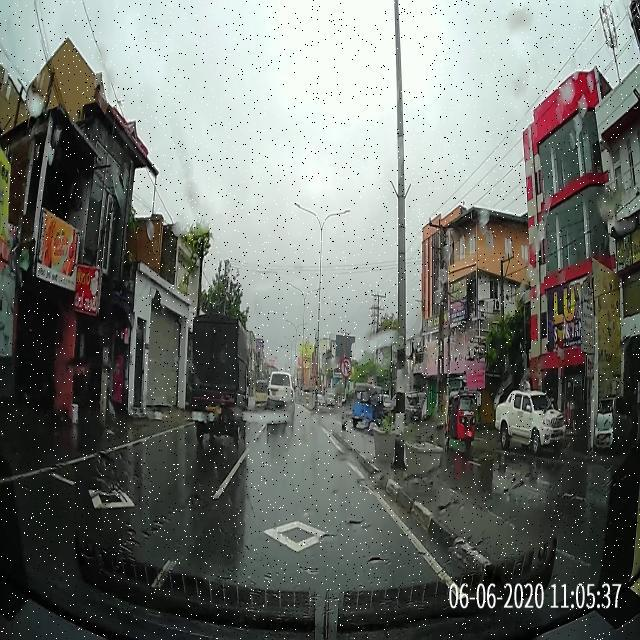diamond: (178, 515, 429, 552)
